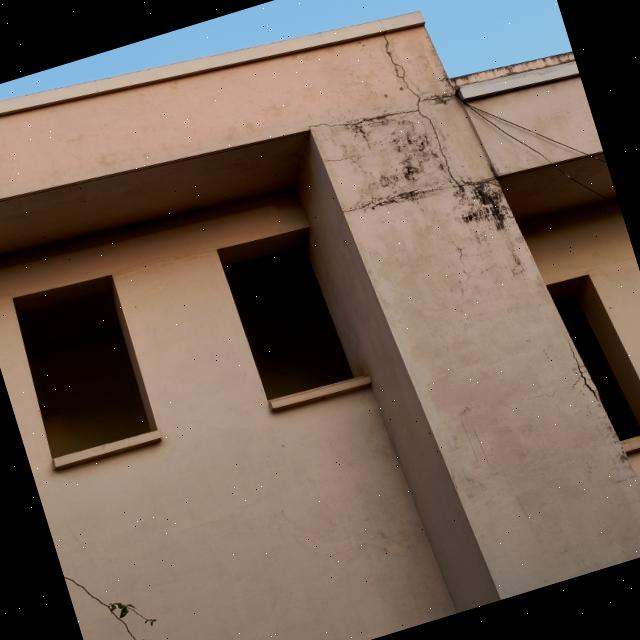Crack: (305, 29, 500, 189), (112, 247, 218, 279), (564, 338, 600, 403)
Moss growth due to damping: (341, 111, 458, 210), (450, 51, 575, 89), (462, 182, 508, 229)
